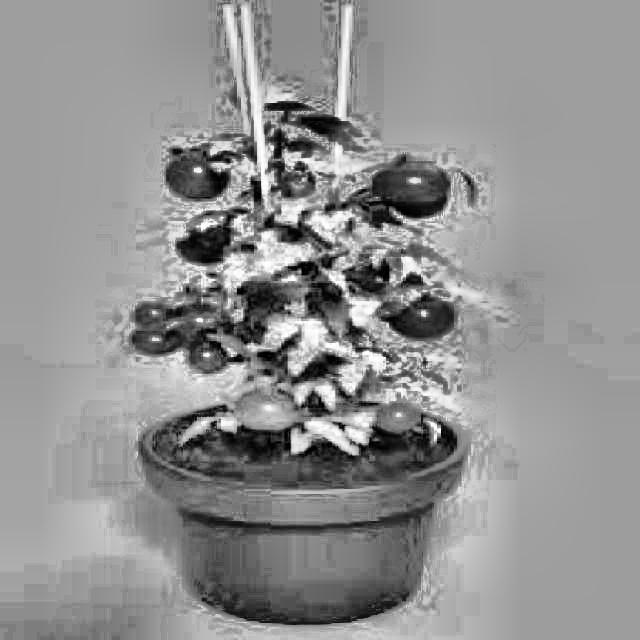plants: (118, 5, 524, 628)
